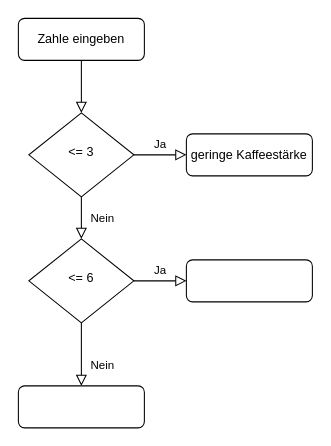
Image size: 331x446. Some labels were removed from this diagram. The shapes that lost their labels are listed below. From the top down, each one's centre as x and y in pixels, then its label:
point 248,280: mittlere Kaffeestärke
point 80,406: starke Kaffeestärke
